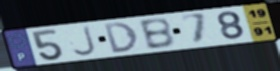5: (30, 27, 65, 62)
7: (178, 13, 209, 46)
8: (216, 10, 247, 41)
B: (137, 16, 177, 51)
D: (102, 21, 140, 55)
J: (71, 25, 98, 58)
